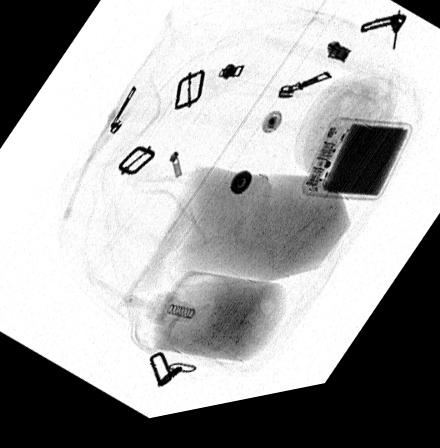Powerbank: (300, 131, 411, 216)
